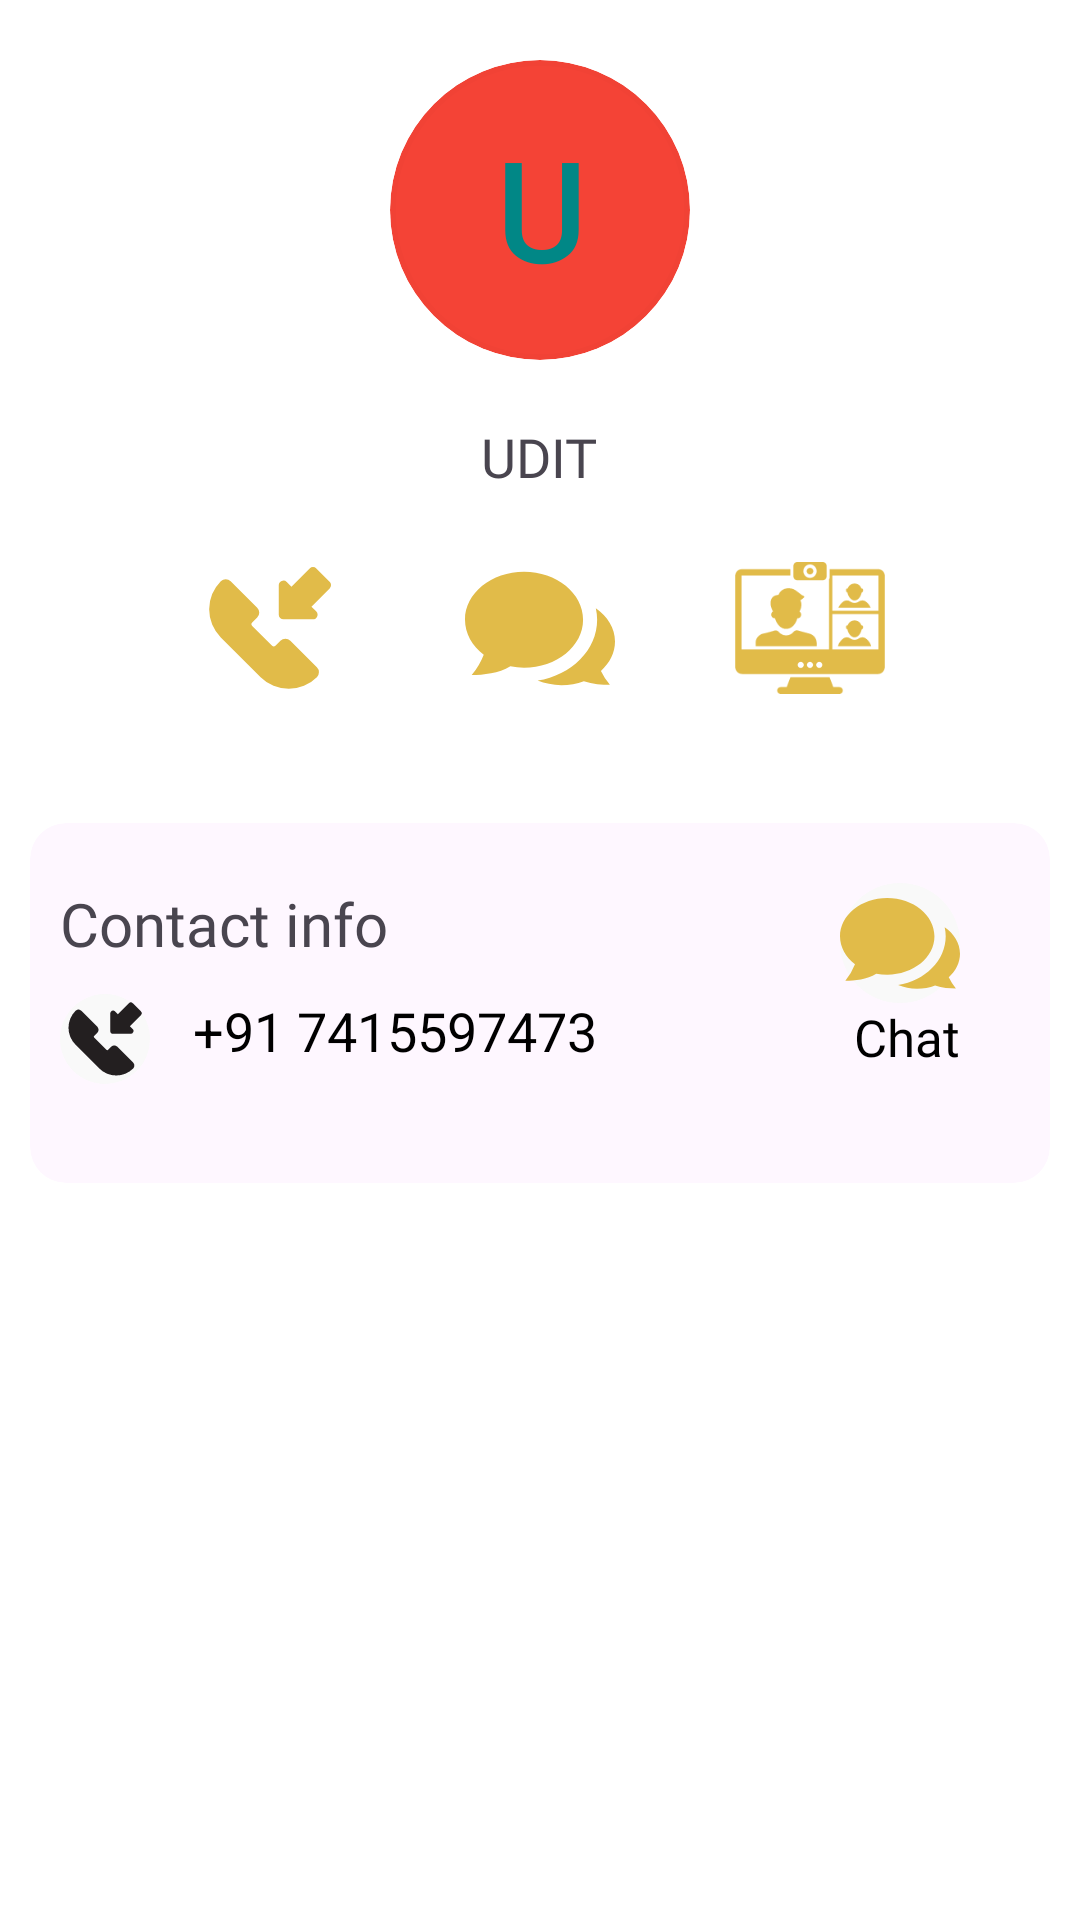

Where icons sit on this 1080 x 1920 app screen, as box(x1, y1, x2, y2):
incoming call: box(209, 567, 331, 689), box(68, 1002, 142, 1076)
videocall: box(735, 562, 885, 694)
